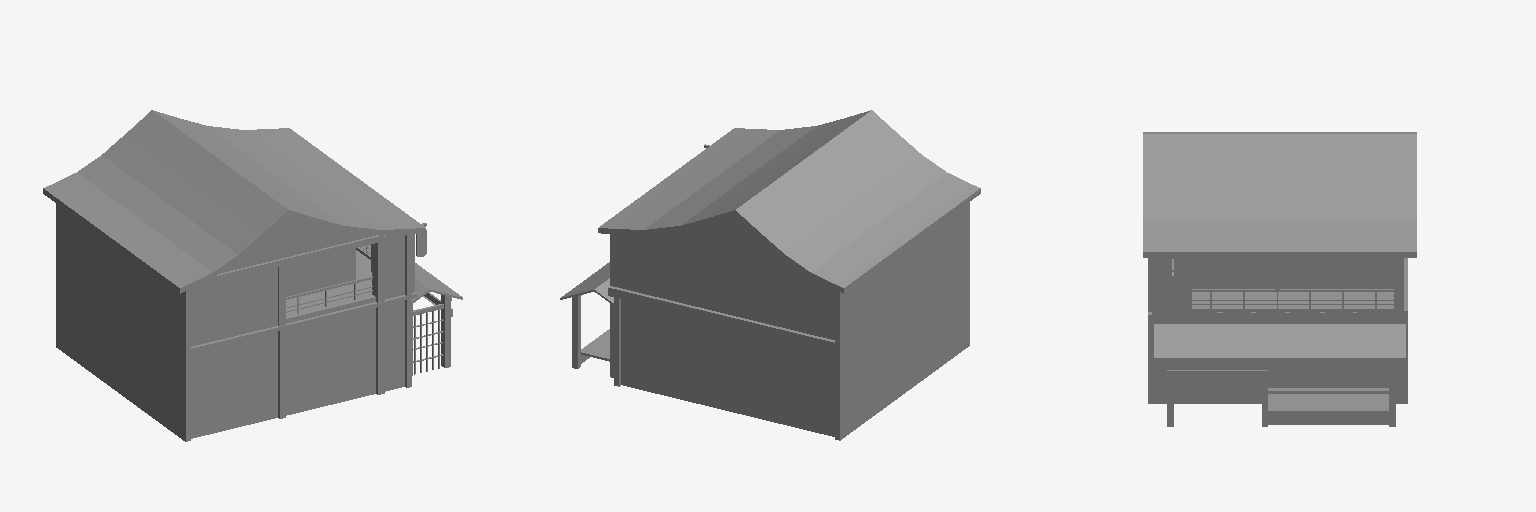
Rendered from Japanese_country_house_2_obj.obj.
3 views of the same model, side by side, from view 1: azimuth 30°, elevation 25°; view 2: azimuth 150°, elevation 25°; view 3: azimuth 270°, elevation 25° (orthographic).
Parts seen in each view (by area): view 1: Cube_Cube.001; view 2: Cube_Cube.001; view 3: Cube_Cube.001.
Part boxes in pixels (x1,y1,x2,y2): Cube_Cube.001: (43, 110, 462, 441); Cube_Cube.001: (560, 110, 980, 440); Cube_Cube.001: (1143, 132, 1416, 426).
Size of the model in its own units: 4.83 by 3.34 by 3.95.